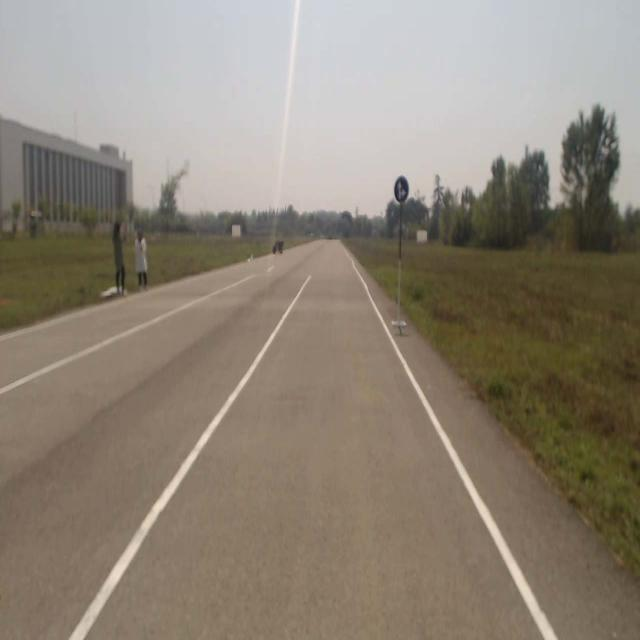ilerisag: (393, 176, 409, 204)
